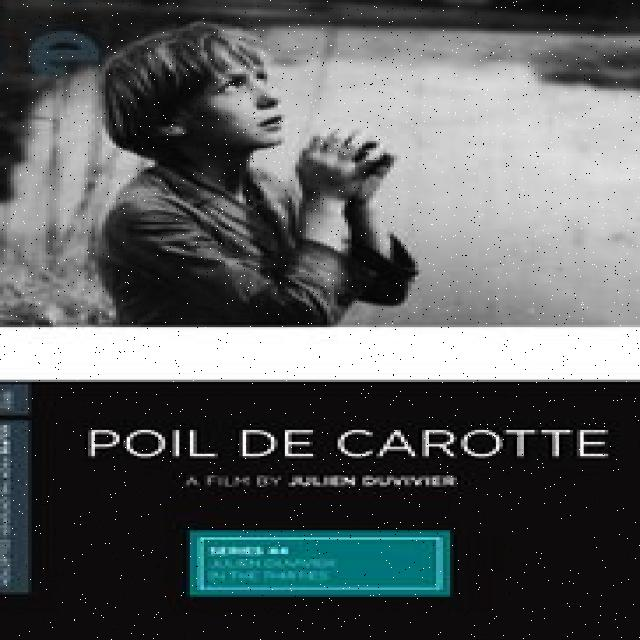movie-judul: (3, 380, 632, 619)
picture: (3, 2, 638, 328)
